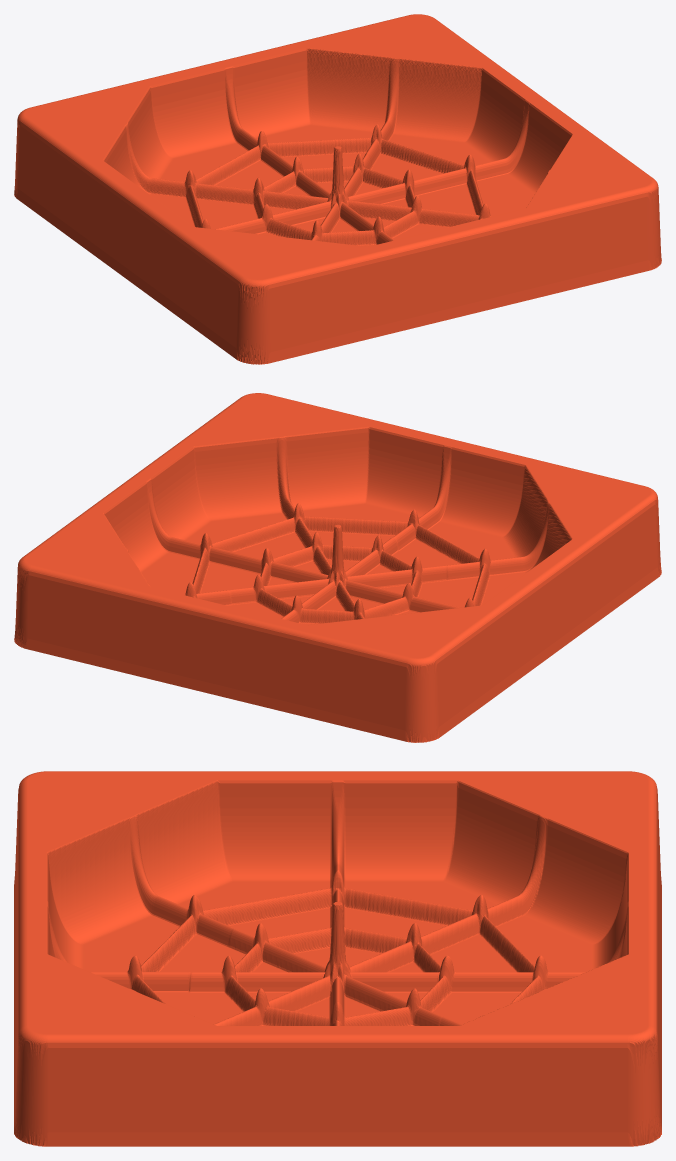
The model's file is mold.glb.
3 views of the same model, one above another, from view 1: azimuth 30°, elevation 25°; view 2: azimuth 150°, elevation 25°; view 3: azimuth 270°, elevation 25° (orthographic). The views are drawn at different scales.
Parts seen in each view (by area): view 1: geometry_0; view 2: geometry_0; view 3: geometry_0.
Part boxes in pixels (box(x1,y1,x2,y2)): geometry_0: box(14, 14, 661, 364); geometry_0: box(14, 393, 661, 742); geometry_0: box(14, 771, 661, 1146).
Bounding box in the file's own units: 0.1709 × 0.031 × 0.1709.
